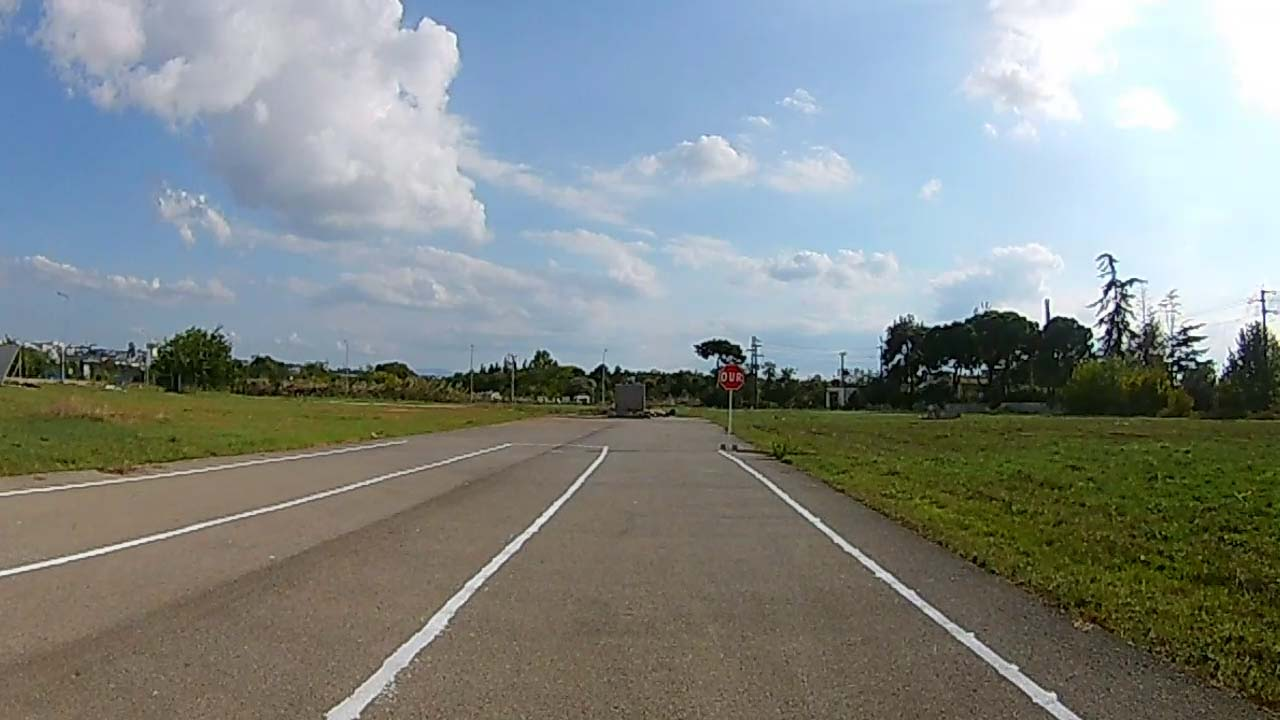arac_dur_isareti: (689, 303, 760, 416)
